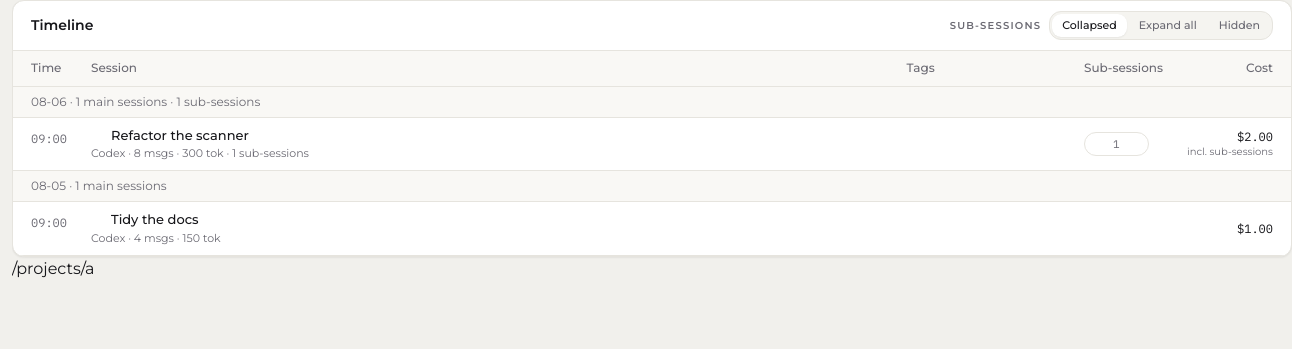
Test: ProjectTimeline › expands every row in Expand all mode and restores per-row state when returning to Collapsed
Click the radio button labelled "Expand all": (1168, 25) [1129, 14, 1207, 36]
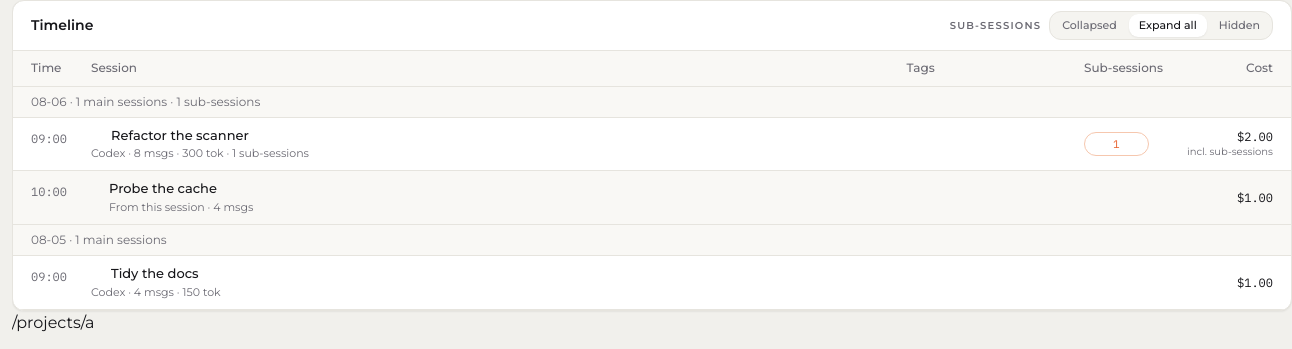
Result: the button "Probe the cache From this session · 4 msgs" is shown at [109, 180, 883, 215]
Click the radio button labelled "Collapsed": (1090, 25) [1052, 14, 1127, 36]
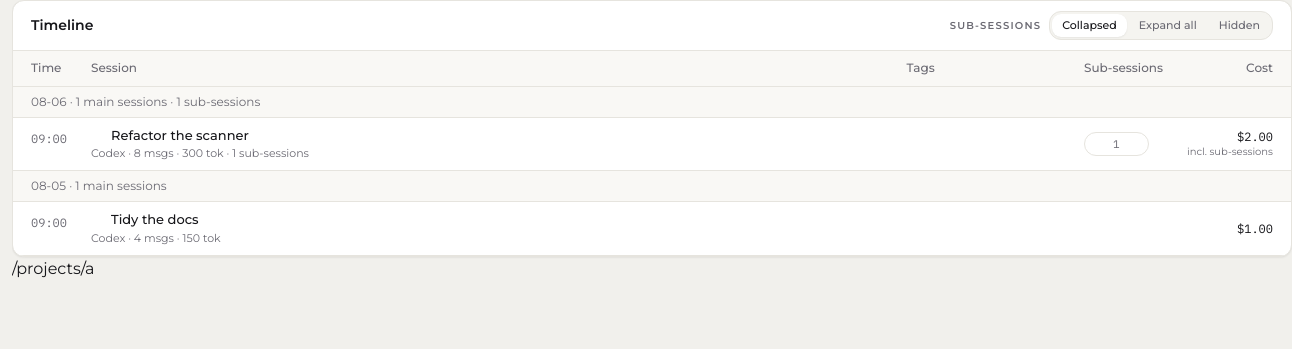
Result: the button "Probe the cache" is gone
